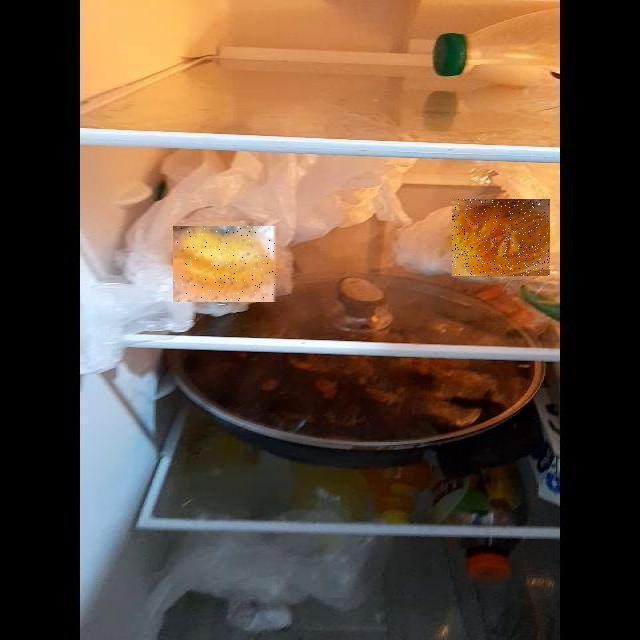Lemon: (174, 226, 278, 302), (452, 199, 550, 276)
